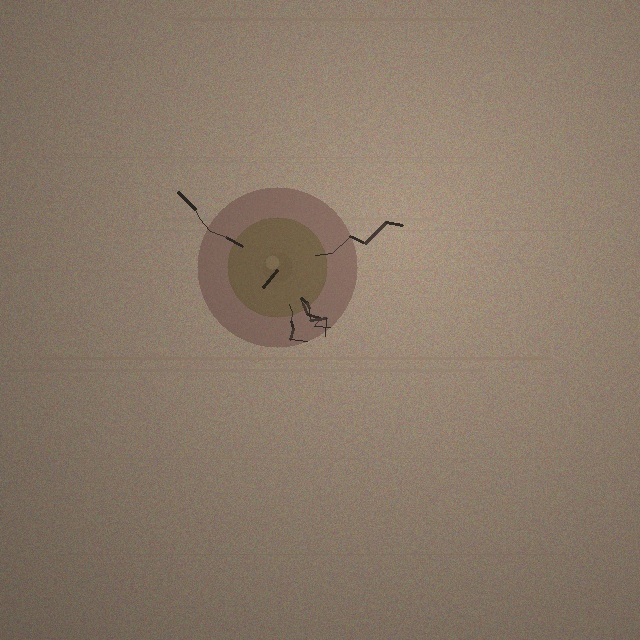crack: (197, 187, 357, 347)
